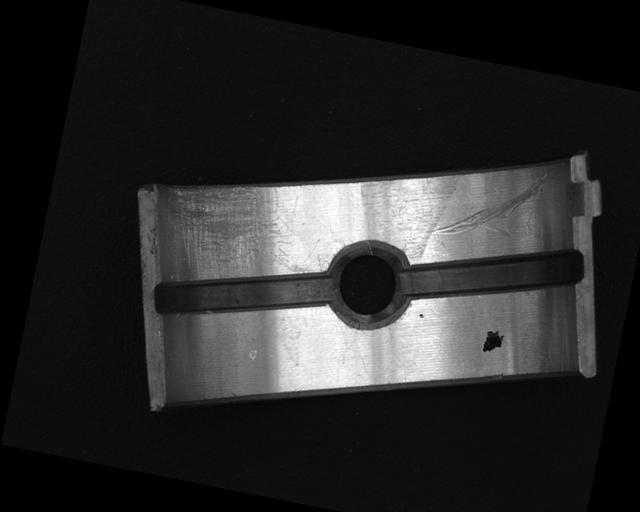blot: (481, 328, 506, 356)
bruise: (247, 345, 259, 361), (419, 313, 424, 319)
gap: (393, 219, 588, 331), (148, 242, 337, 346)
hole: (321, 234, 416, 334)
nick: (426, 150, 553, 258)
scratch: (150, 168, 326, 286)
